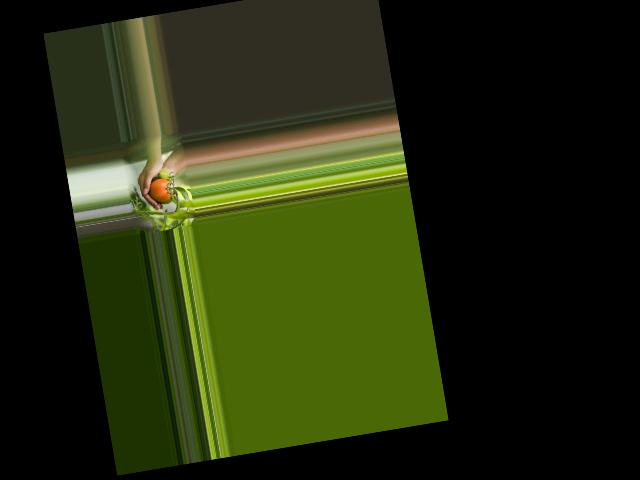tomato: (147, 176, 174, 203)
